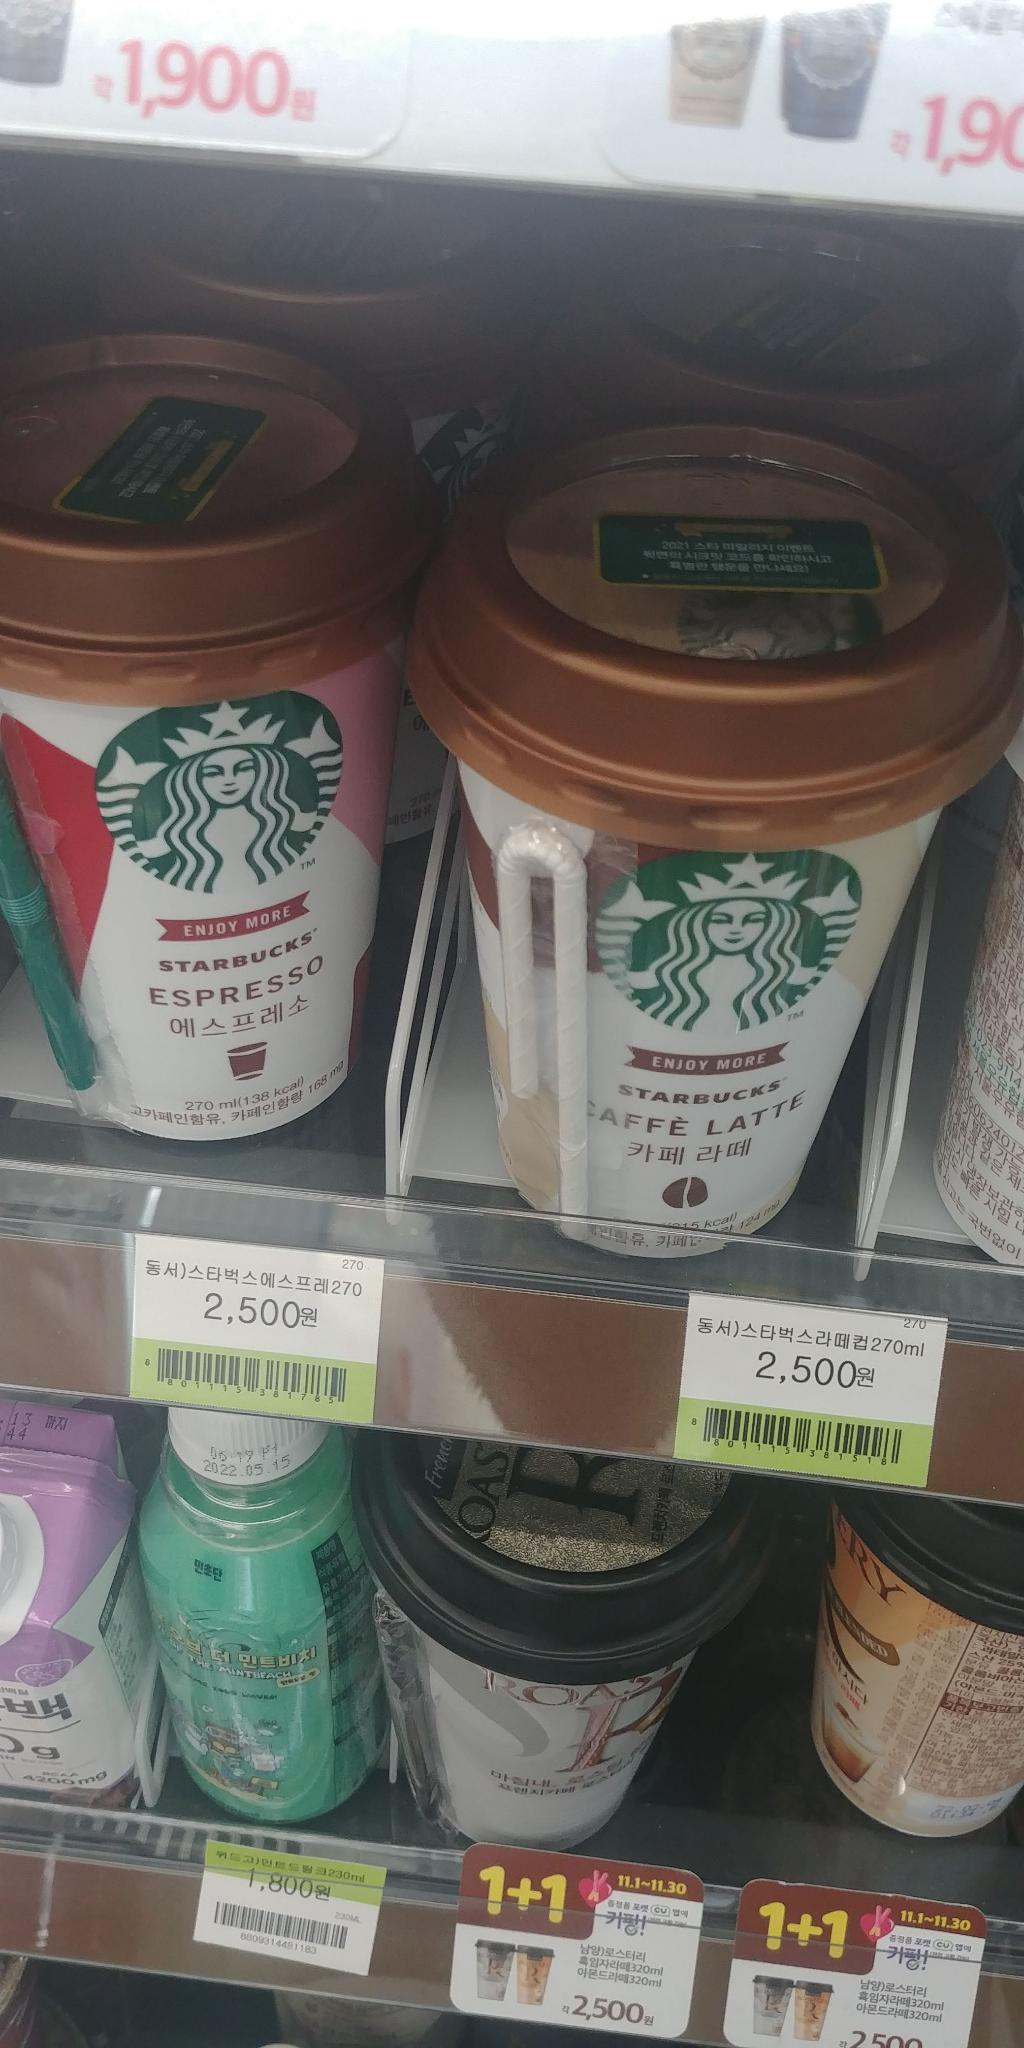starbucks_cafelatte: (414, 396, 1017, 1287)
